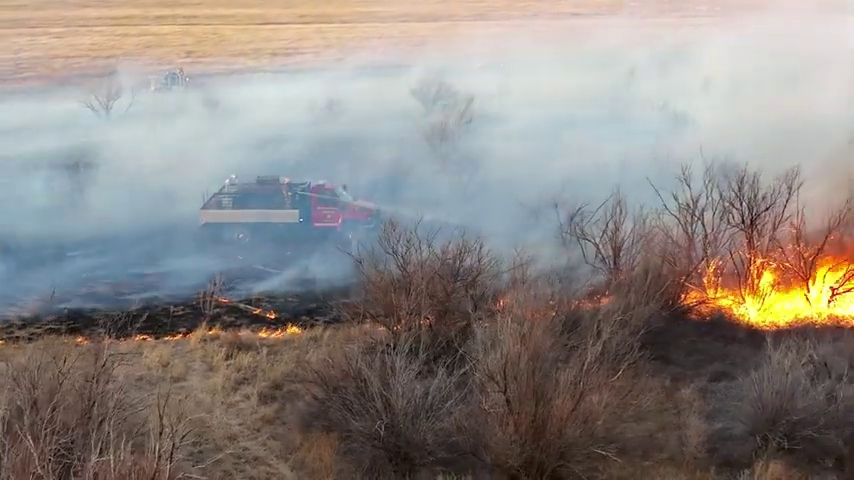forest_fire: (684, 256, 853, 329), (256, 324, 302, 337), (162, 332, 191, 338)
